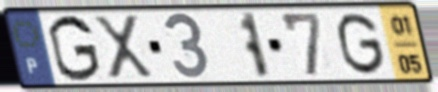1: (236, 9, 274, 82)
3: (162, 9, 213, 84)
7: (277, 12, 326, 79)
G: (45, 12, 104, 84), (335, 10, 389, 78)
X: (90, 13, 157, 82)
